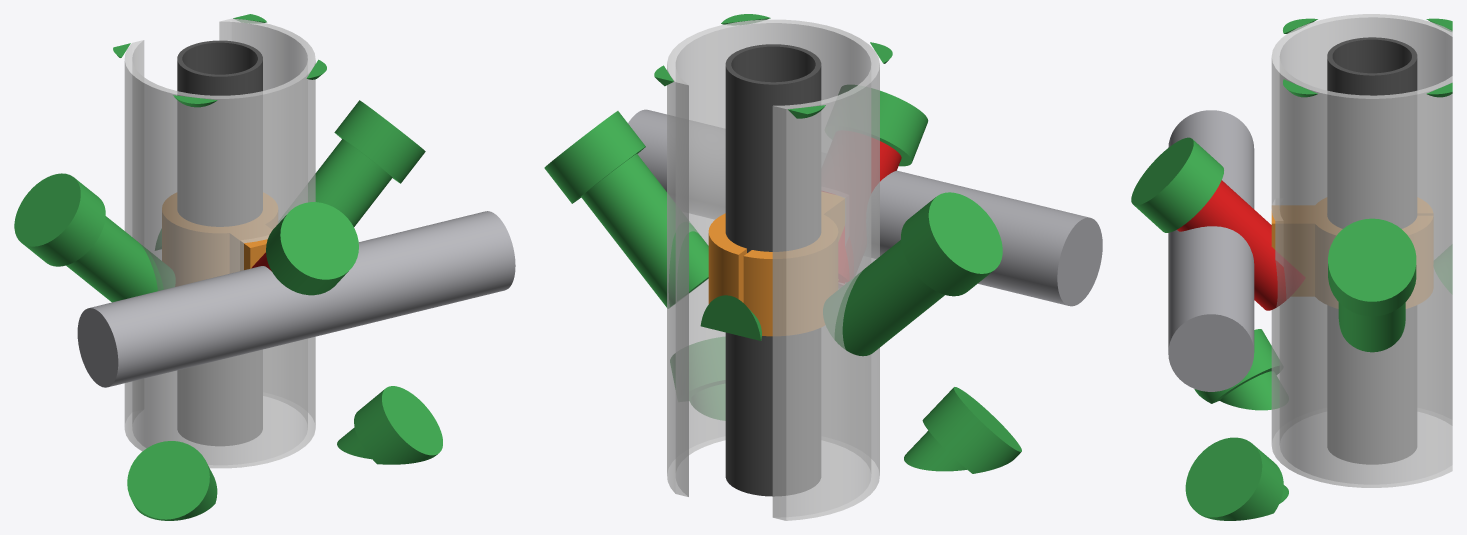
Rendered from spine-connector.glb.
3 renders of one model, left to right at view 1: azimuth 30°, elevation 25°; view 2: azimuth 150°, elevation 25°; view 3: azimuth 270°, elevation 25°, orthographic. The views are drawn at different scales.
Visible parts, largest first — view 1: growing_pipe, pod_places_free, track_loop, spine_tube, connector_bottom_bracket; view 2: growing_pipe, pod_places_free, spine_tube, track_loop, connector_bottom_bracket, pod_places_IN_CONNECTOR_POSITION; view 3: growing_pipe, spine_tube, pod_places_free, track_loop, connector_bottom_bracket, pod_places_IN_CONNECTOR_POSITION.
Boxes of the visible parts, <box> form: growing_pipe: <box>124,18,315,468</box>; pod_places_free: <box>14,14,442,520</box>; track_loop: <box>77,211,515,387</box>; spine_tube: <box>177,40,262,445</box>; connector_bottom_bracket: <box>162,193,277,286</box>; growing_pipe: <box>667,19,879,520</box>; pod_places_free: <box>544,14,1021,473</box>; spine_tube: <box>725,44,821,496</box>; track_loop: <box>628,109,1102,306</box>; connector_bottom_bracket: <box>708,192,844,336</box>; pod_places_IN_CONNECTOR_POSITION: <box>822,138,901,283</box>; growing_pipe: <box>1271,14,1452,487</box>; spine_tube: <box>1327,37,1417,464</box>; pod_places_free: <box>1131,18,1452,520</box>; track_loop: <box>1168,110,1254,391</box>; connector_bottom_bracket: <box>1271,198,1433,308</box>; pod_places_IN_CONNECTOR_POSITION: <box>1177,180,1304,310</box>.
Bounding box in the file's own units: 180 × 160 × 120.
